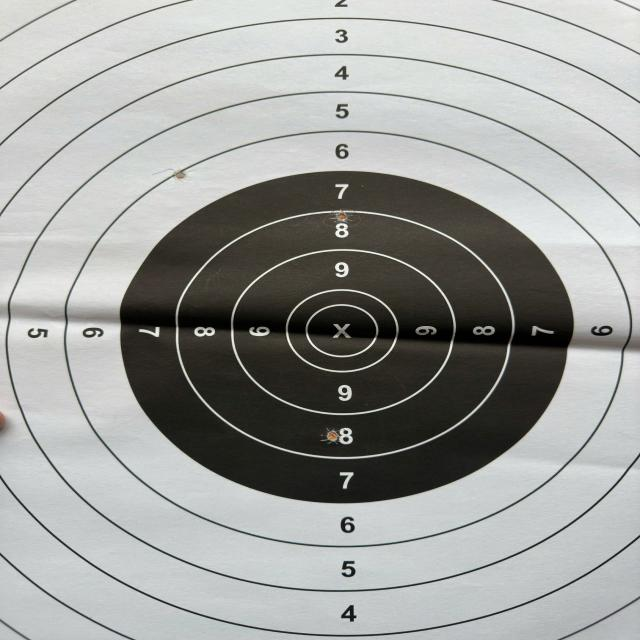bullet: (326, 429, 339, 442), (335, 213, 346, 222), (175, 171, 187, 179)
target: (0, 0, 640, 640)
